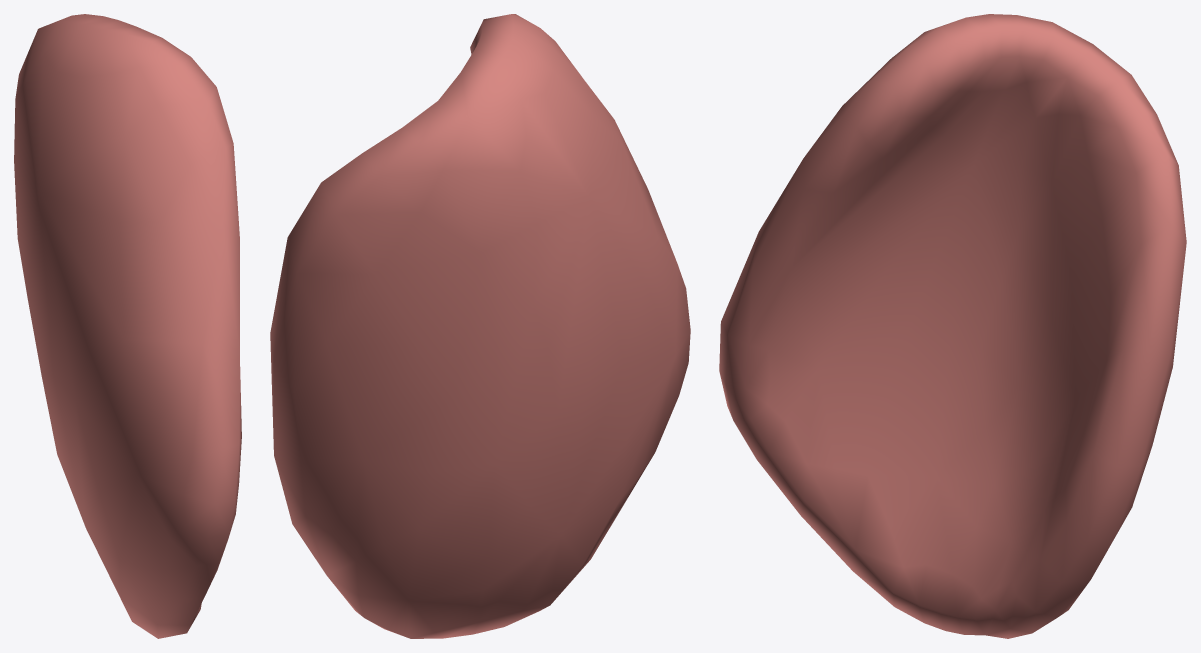
3 renders of one model, left to right at view 1: azimuth 30°, elevation 25°; view 2: azimuth 150°, elevation 25°; view 3: azimuth 270°, elevation 25°, orthographic. The views are drawn at different scales.
Visible parts, largest first — view 1: ZA_3fafe2ba58780cad; view 2: ZA_3fafe2ba58780cad; view 3: ZA_3fafe2ba58780cad.
Boxes of the visible parts, x1=… form: ZA_3fafe2ba58780cad: x1=14, y1=14, x2=241, y2=638; ZA_3fafe2ba58780cad: x1=270, y1=14, x2=690, y2=638; ZA_3fafe2ba58780cad: x1=719, y1=14, x2=1186, y2=638.
Size of the model in its own units: 0.00171 by 0.00415 by 0.00298.
